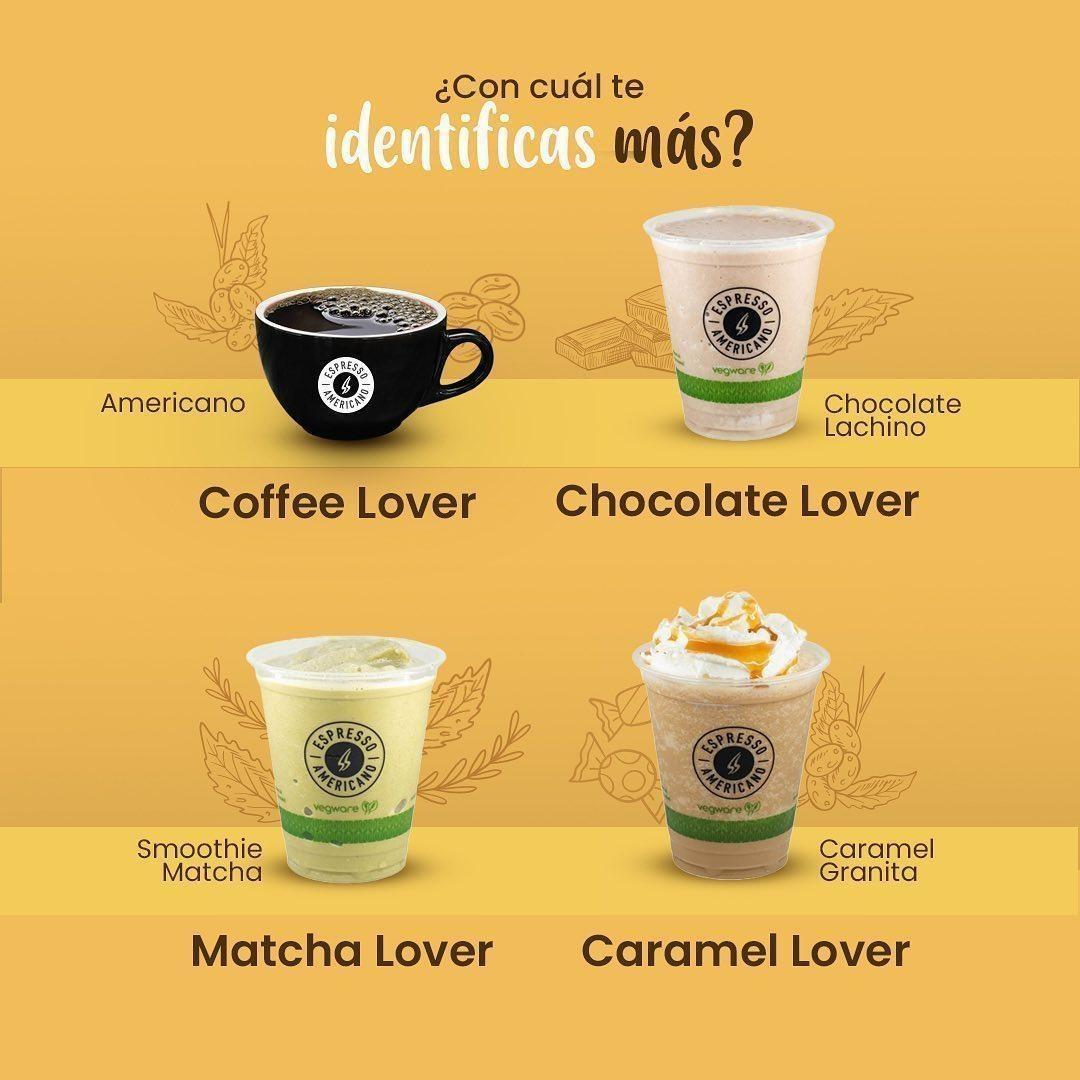cup-disposable: (626, 611, 833, 887), (241, 623, 448, 893), (636, 198, 833, 442)
cup-handle: (259, 276, 498, 447)
